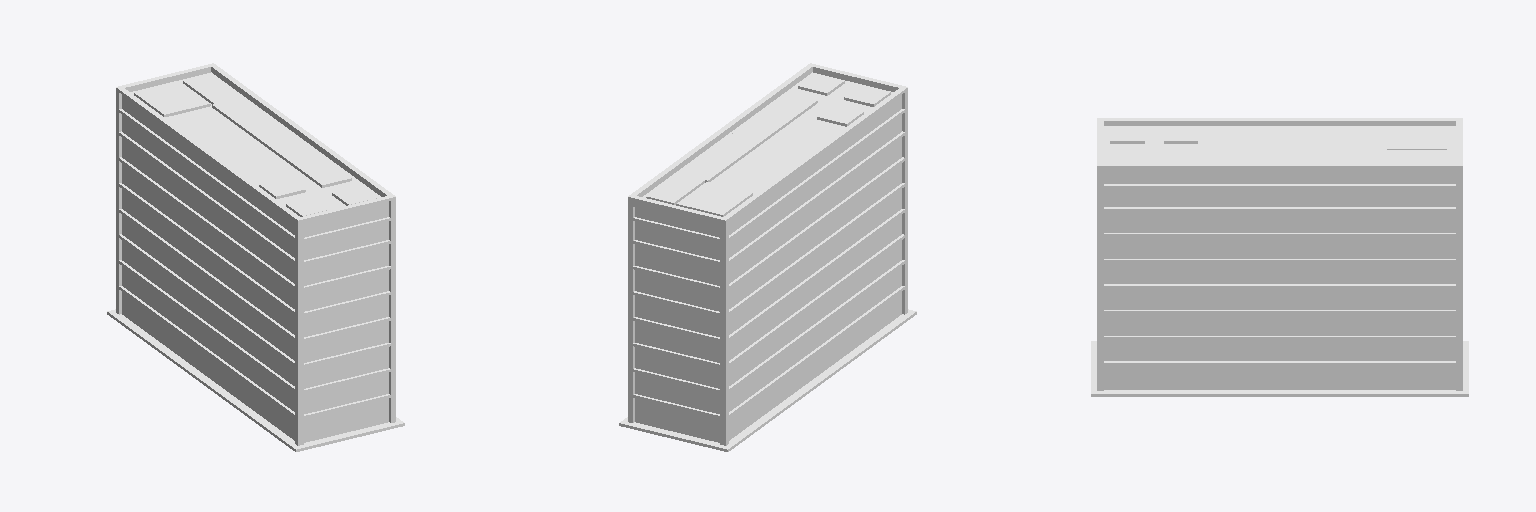
Rendered from Asset-28.obj.
3 renders of one model, left to right at view 1: azimuth 30°, elevation 25°; view 2: azimuth 150°, elevation 25°; view 3: azimuth 270°, elevation 25°, orthographic.
Parts seen in each view (by area): view 1: Asset-28; view 2: Asset-28; view 3: Asset-28.
Part boxes in pixels (bbox=[...]): Asset-28: bbox=[107, 63, 404, 451]; Asset-28: bbox=[619, 63, 916, 451]; Asset-28: bbox=[1091, 118, 1468, 396].
Bounding box in the file's own units: 40 × 80 × 120.